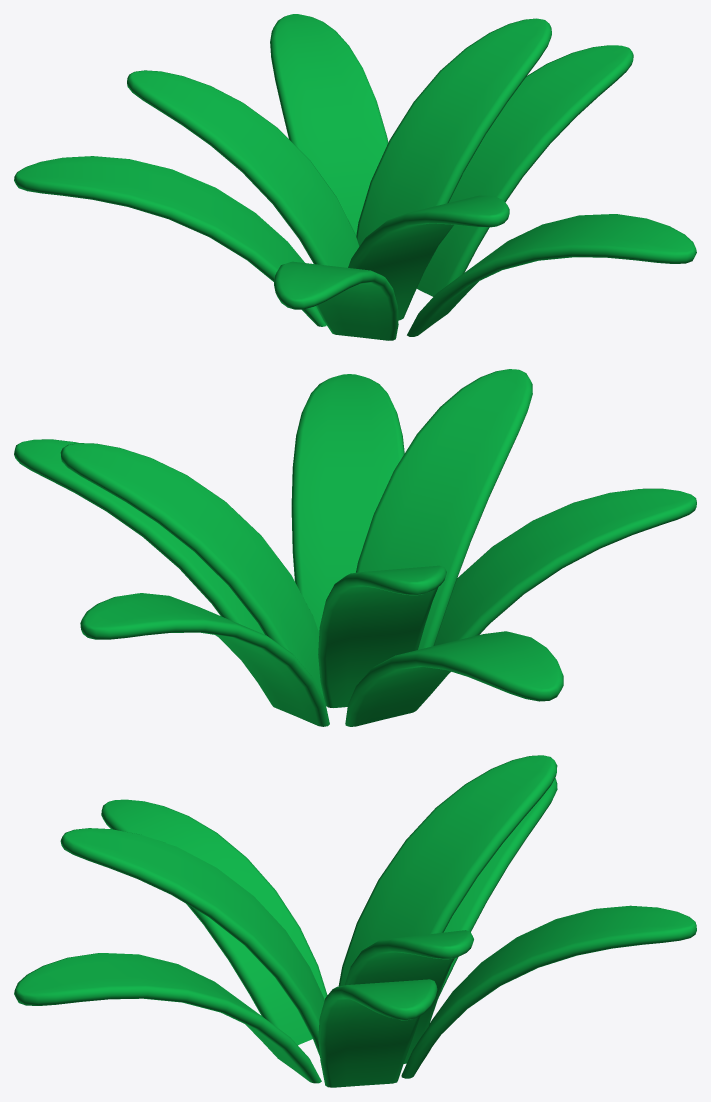
Rendered from Town_15_Plant_6.glb.
The picture shows the model from 3 angles, top to bottom: view 1: azimuth 30°, elevation 25°; view 2: azimuth 150°, elevation 25°; view 3: azimuth 270°, elevation 25°; orthographic projection. The views are drawn at different scales.
Parts seen in each view (by area): view 1: Town_15_Plant_6; view 2: Town_15_Plant_6; view 3: Town_15_Plant_6.
Boxes of the visible parts, x1,y1,x2,y2 form: Town_15_Plant_6: (14, 14, 696, 340); Town_15_Plant_6: (14, 369, 696, 726); Town_15_Plant_6: (14, 755, 696, 1087).
Bounding box in the file's own units: 1.25 × 0.4466 × 1.26.
1 material, 1 textured.
